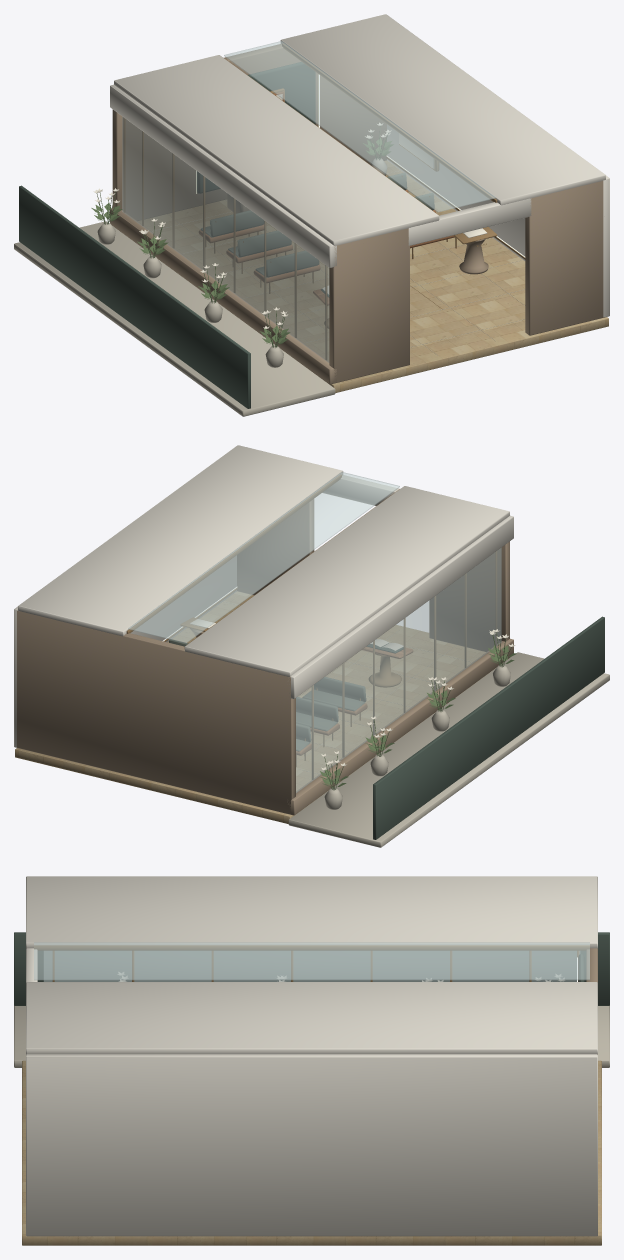
Rendered from sanctuary-mobile.glb.
3 views of the same model, one above another, from view 1: azimuth 30°, elevation 25°; view 2: azimuth 150°, elevation 25°; view 3: azimuth 270°, elevation 25° (orthographic). The views are drawn at different scales.
Visible parts, largest first — view 1: Warm mineral plaster, Honed limestone, Architectural glazing, Continuous honed stone floor, Deep olive limewash, Unglazed ceramic, Satin architectural bronze, Woven olive upholstery, Natural foliage, Natural smoked oak, tribute_Honed limestone; view 2: Warm mineral plaster, Honed limestone, Architectural glazing, Deep olive limewash, Continuous honed stone floor, Unglazed ceramic, Satin architectural bronze, Woven olive upholstery, Natural foliage, guestbook_Satin architectural bronze; view 3: Warm mineral plaster, Architectural glazing, Deep olive limewash, Continuous honed stone floor, Satin architectural bronze, Unglazed ceramic.
Boxes of the visible parts, x1,y1,x2,y2 form: Warm mineral plaster: (110,14,609,317); Honed limestone: (110,44,605,384); Architectural glazing: (122,41,495,362); Continuous honed stone floor: (112,160,608,392); Deep olive limewash: (19,62,315,408); Unglazed ceramic: (14,158,524,416); Satin architectural bronze: (123,43,525,359); Woven olive upholstery: (201,173,434,277); Natural foliage: (91,126,393,347); Natural smoked oak: (199,91,455,282); tribute_Honed limestone: (459,239,488,274); Warm mineral plaster: (14,445,513,747); Honed limestone: (17,499,513,815); Architectural glazing: (128,472,501,792); Deep olive limewash: (373,616,604,839); Continuous honed stone floor: (15,591,511,823); Unglazed ceramic: (238,605,609,847); Satin architectural bronze: (126,474,497,779); Woven olive upholstery: (169,639,365,751); Natural foliage: (320,632,516,790); guestbook_Satin architectural bronze: (369,653,401,687); Warm mineral plaster: (26,876,597,1236); Architectural glazing: (34,942,589,981); Deep olive limewash: (14,932,609,1005); Continuous honed stone floor: (22,1060,601,1245); Satin architectural bronze: (34,945,589,981); Unglazed ceramic: (14,1005,609,1067).
Size of the model in its own units: 14.05 by 5.5 by 15.
Materials: 13 (3 with a texture image).
